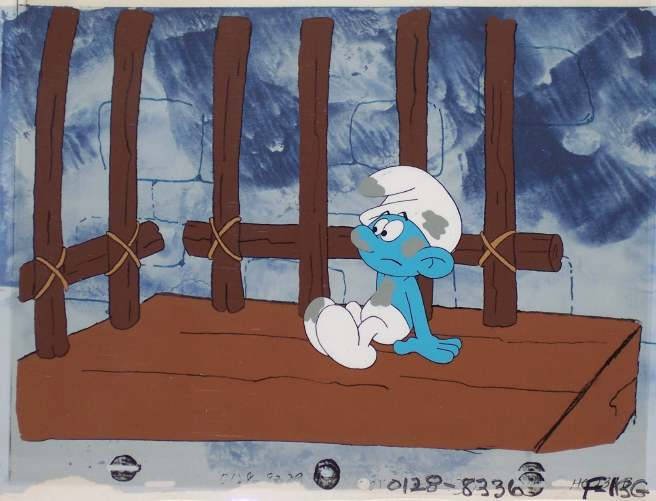smurf: (300, 165, 466, 370)
